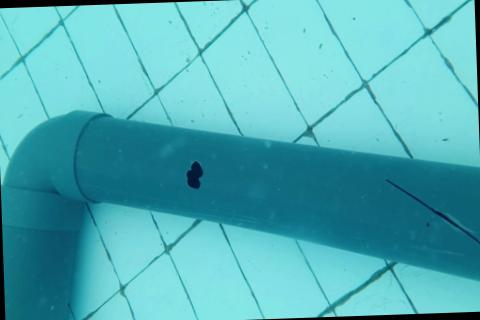kebocoran: (184, 160, 203, 192)
keretakan: (385, 175, 480, 251)
